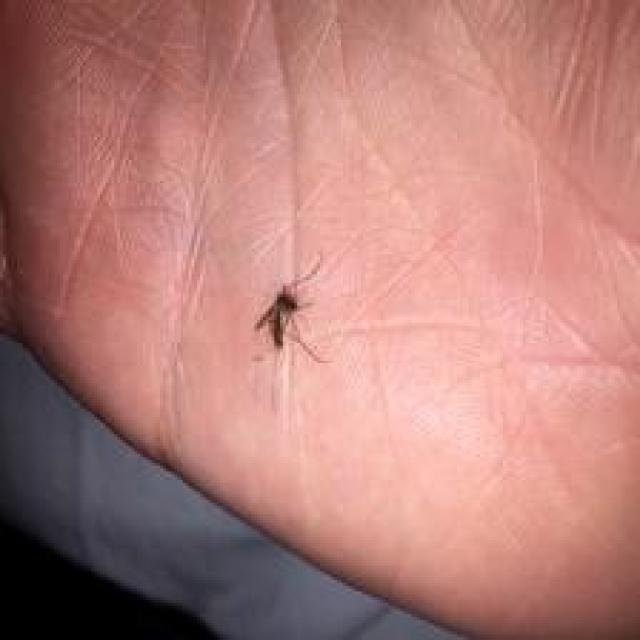Culex: (253, 254, 330, 366)
